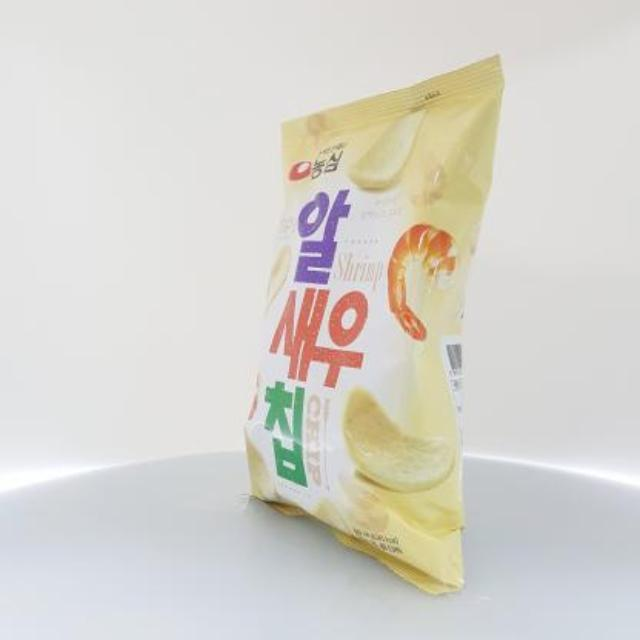snack_bag: (230, 48, 524, 608)
